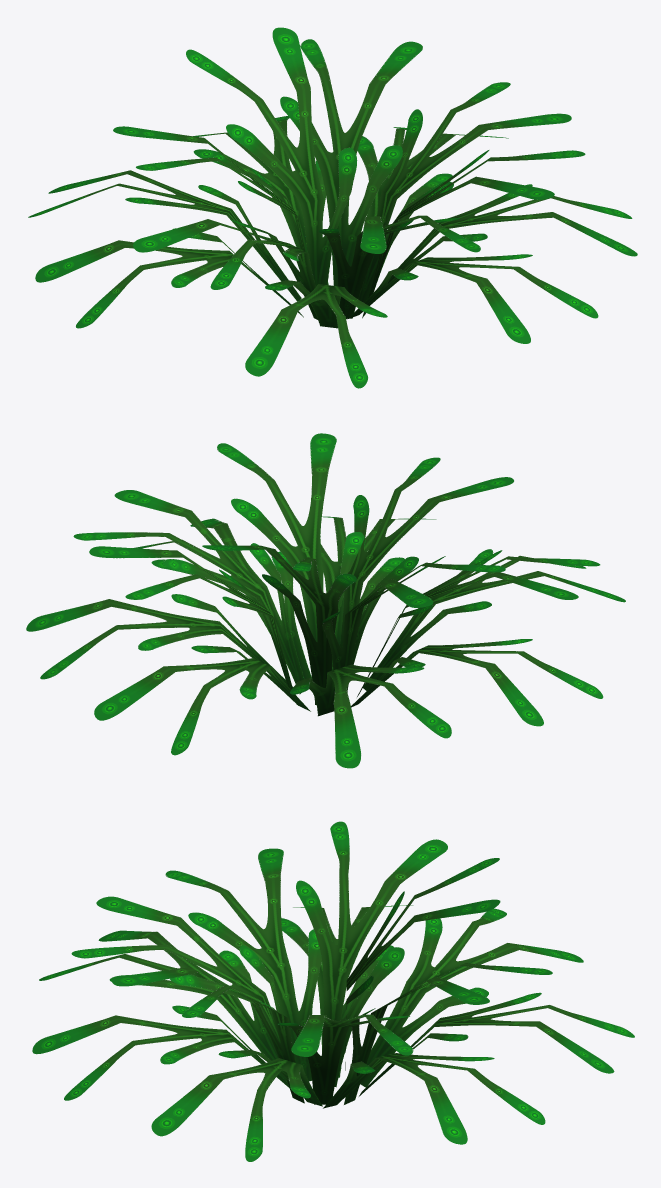
File: SeaWeed_08.FBX
3 renders of one model, top to bottom at view 1: azimuth 30°, elevation 25°; view 2: azimuth 150°, elevation 25°; view 3: azimuth 270°, elevation 25°, orthographic. The views are drawn at different scales.
Visible parts, largest first — view 1: SeaWeed_08; view 2: SeaWeed_08; view 3: SeaWeed_08.
Part boxes in pixels (x1=…): SeaWeed_08: x1=28, y1=27, x2=637, y2=388; SeaWeed_08: x1=26, y1=433, x2=625, y2=768; SeaWeed_08: x1=32, y1=821, x2=634, y2=1161.
Size of the model in its own units: 131 by 50.89 by 132.
